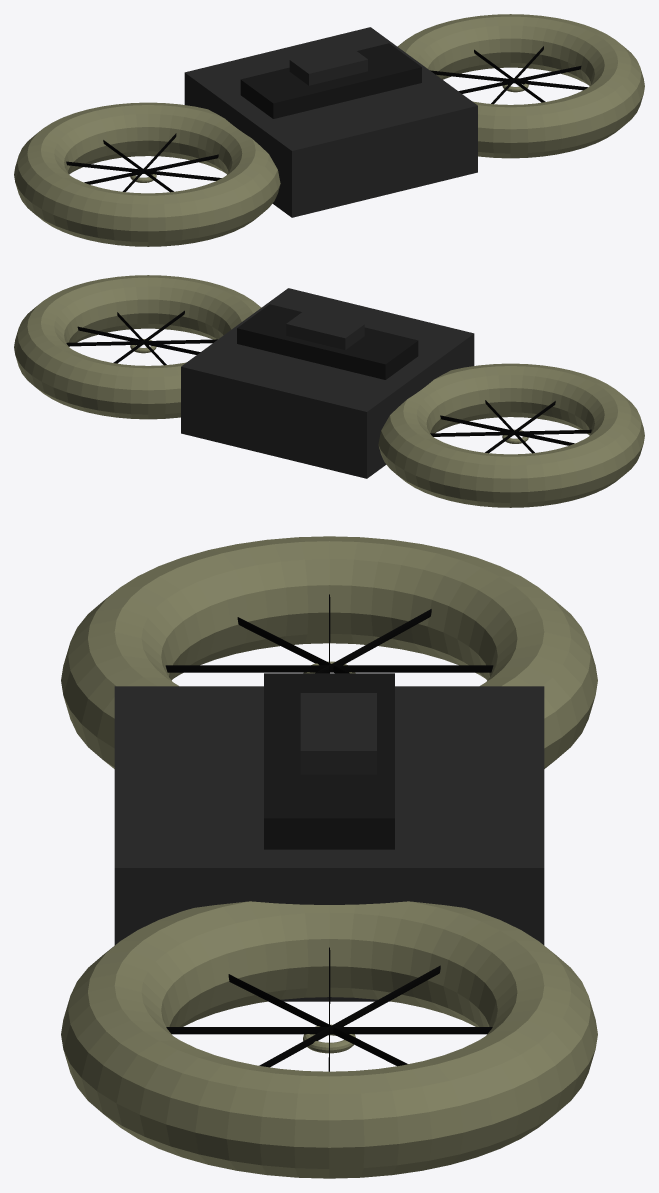
File: dron.glb
The picture shows the model from 3 angles, top to bottom: view 1: azimuth 30°, elevation 25°; view 2: azimuth 150°, elevation 25°; view 3: azimuth 270°, elevation 25°; orthographic projection. The views are drawn at different scales.
Visible parts, largest first — view 1: Cube, Torus.001, Torus, Cube.001, Cube.002, Cylinder.006, Cylinder.002, Cylinder.001, Cylinder.005; view 2: Cube, Torus.001, Torus, Cube.001, Cube.002, Cylinder.003, Cylinder.007, Cylinder.001, Cylinder.005; view 3: Torus, Cube, Torus.001, Cube.001, Cube.002, Cylinder, Cylinder.004, Cylinder.006, Cylinder.007.
Boxes of the visible parts, left/top/right/bottom form: Cube: left=184, top=27, right=477, bottom=217; Torus.001: left=14, top=102, right=280, bottom=246; Torus: left=397, top=14, right=644, bottom=158; Cube.001: left=240, top=43, right=421, bottom=118; Cube.002: left=289, top=45, right=367, bottom=85; Cylinder.006: left=430, top=70, right=587, bottom=90; Cylinder.002: left=66, top=161, right=221, bottom=180; Cylinder.001: left=84, top=154, right=218, bottom=184; Cylinder.005: left=458, top=66, right=581, bottom=93; Cube: left=181, top=288, right=474, bottom=478; Torus.001: left=378, top=363, right=644, bottom=507; Torus: left=14, top=275, right=261, bottom=419; Cube.001: left=237, top=304, right=418, bottom=379; Cube.002: left=286, top=310, right=364, bottom=350; Cylinder.003: left=430, top=429, right=591, bottom=436; Cylinder.007: left=66, top=339, right=217, bottom=346; Cylinder.001: left=440, top=415, right=574, bottom=445; Cylinder.005: left=77, top=326, right=200, bottom=354; Torus: left=61, top=901, right=597, bottom=1178; Cube: left=114, top=686, right=544, bottom=1001; Torus.001: left=61, top=536, right=597, bottom=768; Cube.001: left=264, top=673, right=394, bottom=849; Cube.002: left=300, top=693, right=376, bottom=774; Cylinder: left=165, top=665, right=493, bottom=672; Cylinder.004: left=166, top=1027, right=492, bottom=1034; Cylinder.006: left=259, top=965, right=440, bottom=1067; Cylinder.007: left=228, top=974, right=407, bottom=1066.
Size of the model in its own units: 6.4 by 0.9703 by 2.5.
